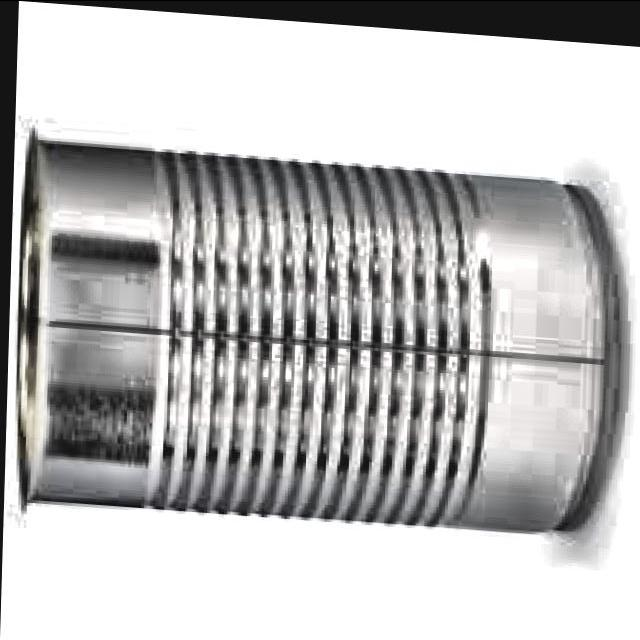litter: (3, 123, 626, 554)
